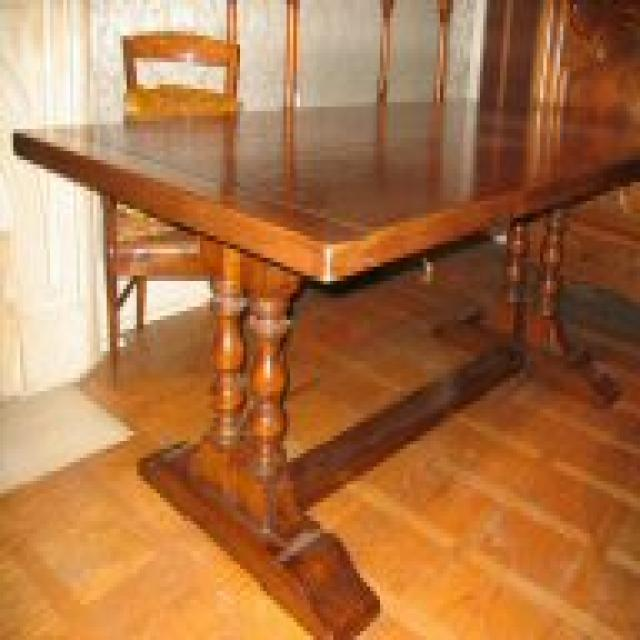table: (10, 99, 640, 640)
